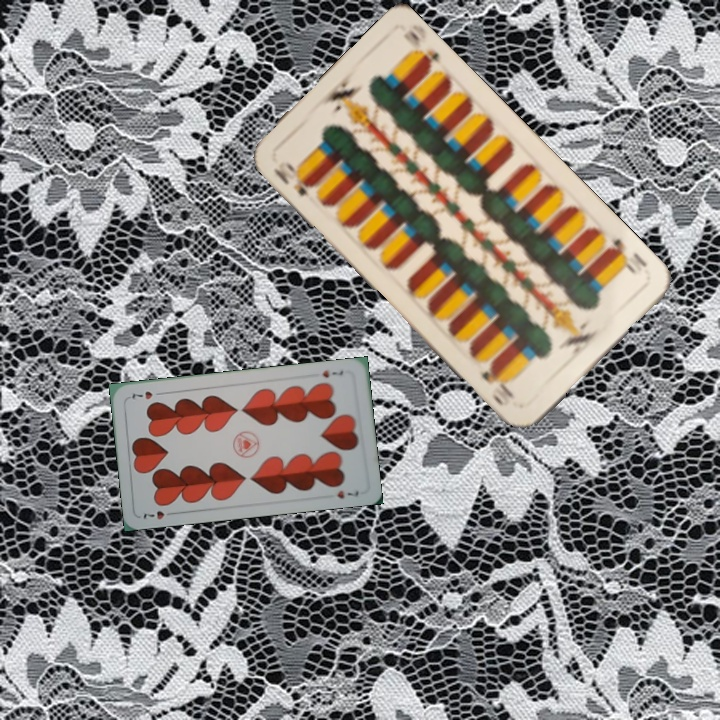E10: (269, 157, 315, 200), (603, 234, 639, 277)
H7: (139, 506, 178, 522), (318, 366, 346, 380)
